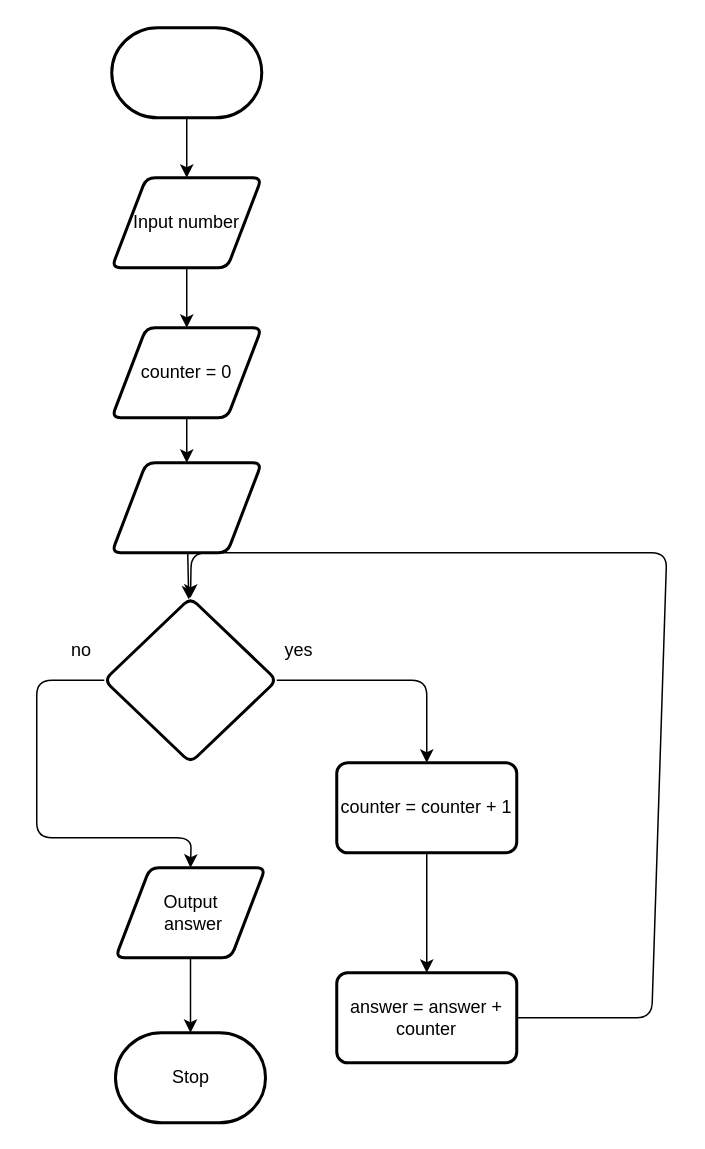
This 705x1149 diagram has some shape labels left out. Here are the shapes that lost their labels. From the top down, the centre of each, then its label:
the point at 186,72: Start
the point at 186,507: answer = 0
the point at 190,680: if counter < number
